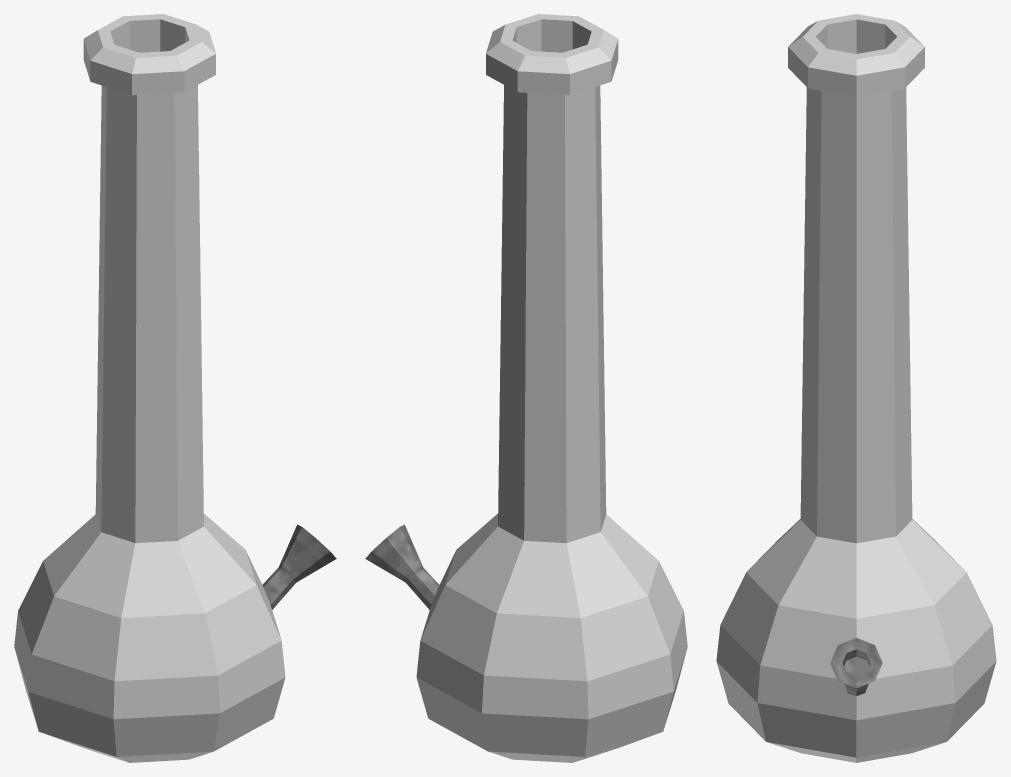
File: SM_Dungeon_Bong.fbx
The picture shows the model from 3 angles, left to right: view 1: azimuth 30°, elevation 25°; view 2: azimuth 150°, elevation 25°; view 3: azimuth 270°, elevation 25°; orthographic projection.
Parts seen in each view (by area): view 1: Deco_Bong; view 2: Deco_Bong; view 3: Deco_Bong.
Part boxes in pixels (x1=…): Deco_Bong: x1=14, y1=14, x2=336, y2=762; Deco_Bong: x1=365, y1=14, x2=687, y2=762; Deco_Bong: x1=716, y1=14, x2=996, y2=762.
Bounding box in the file's own units: 20.12 × 44.01 × 16.12.
